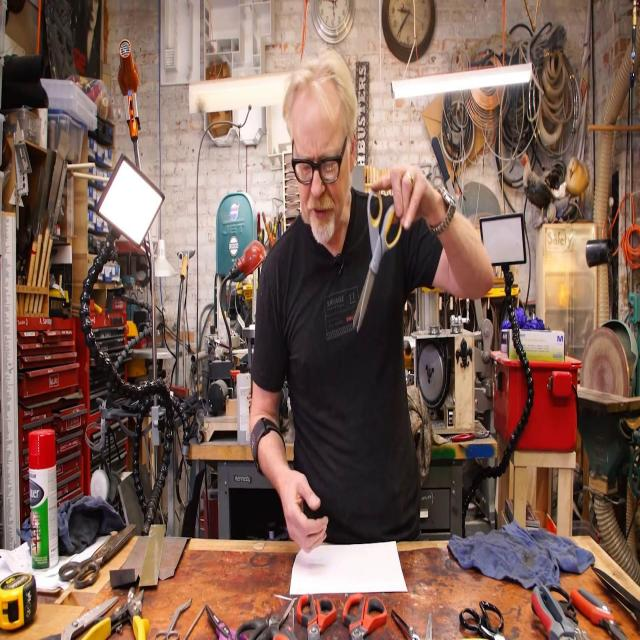scissor: (354, 190, 404, 332), (61, 524, 136, 590), (570, 585, 628, 640), (236, 600, 295, 640), (343, 592, 386, 640), (458, 600, 509, 640), (297, 592, 336, 640), (205, 604, 253, 640), (155, 597, 192, 640)
